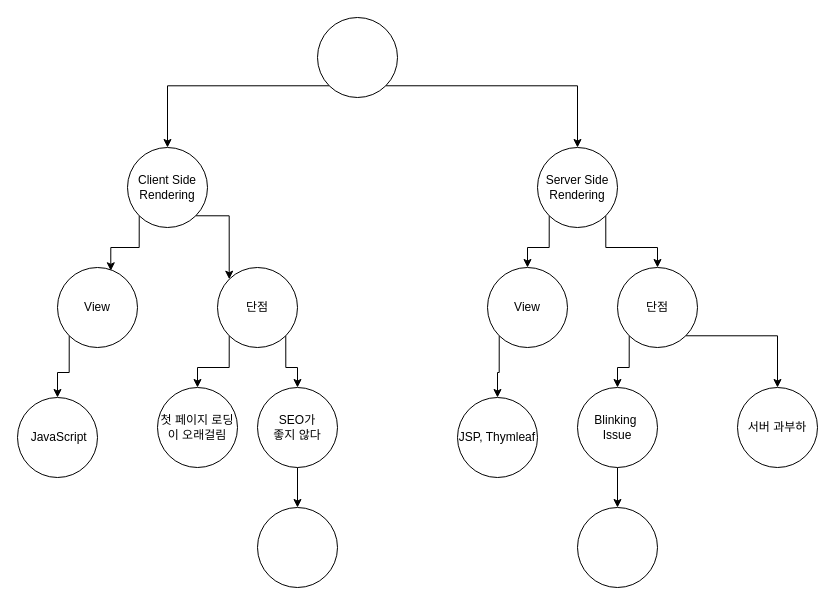
Some shapes in this 835 by 605 pixel diagram are drawn without their labels. The shapes that lost their labels are listed below. From the top down, each one's centre as x and y in pixels, then its label:
At (357,57): "Rendering".
At (297,547): "텅빈 HTML".
At (617,547): "새로고침시 페이지 전부 받아옴".
